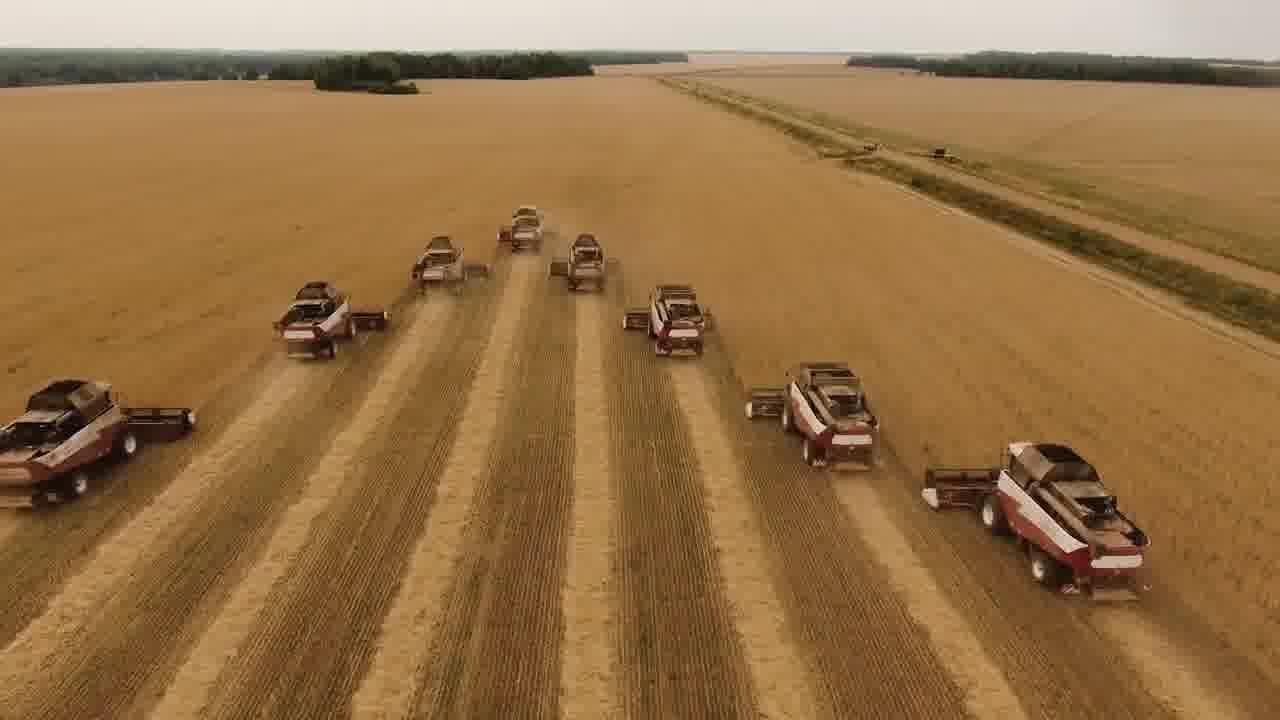combine harvester: (919, 433, 1152, 606), (0, 371, 198, 527), (742, 358, 887, 475), (267, 277, 392, 363), (618, 280, 715, 359), (408, 231, 494, 298), (546, 233, 622, 293), (498, 202, 552, 255)
